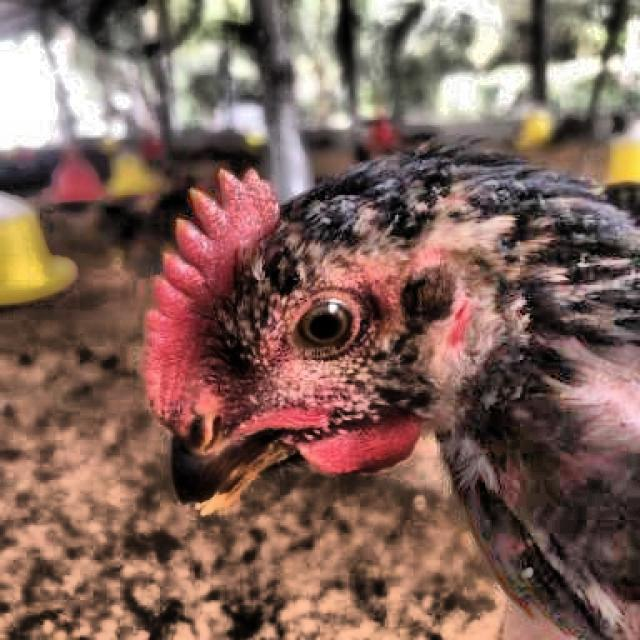Healthy: (273, 283, 400, 372)
